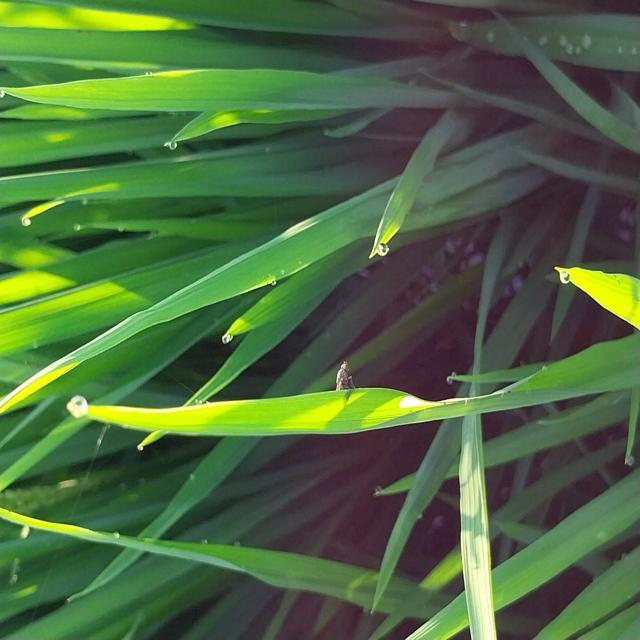healthy: (320, 343, 366, 412)
